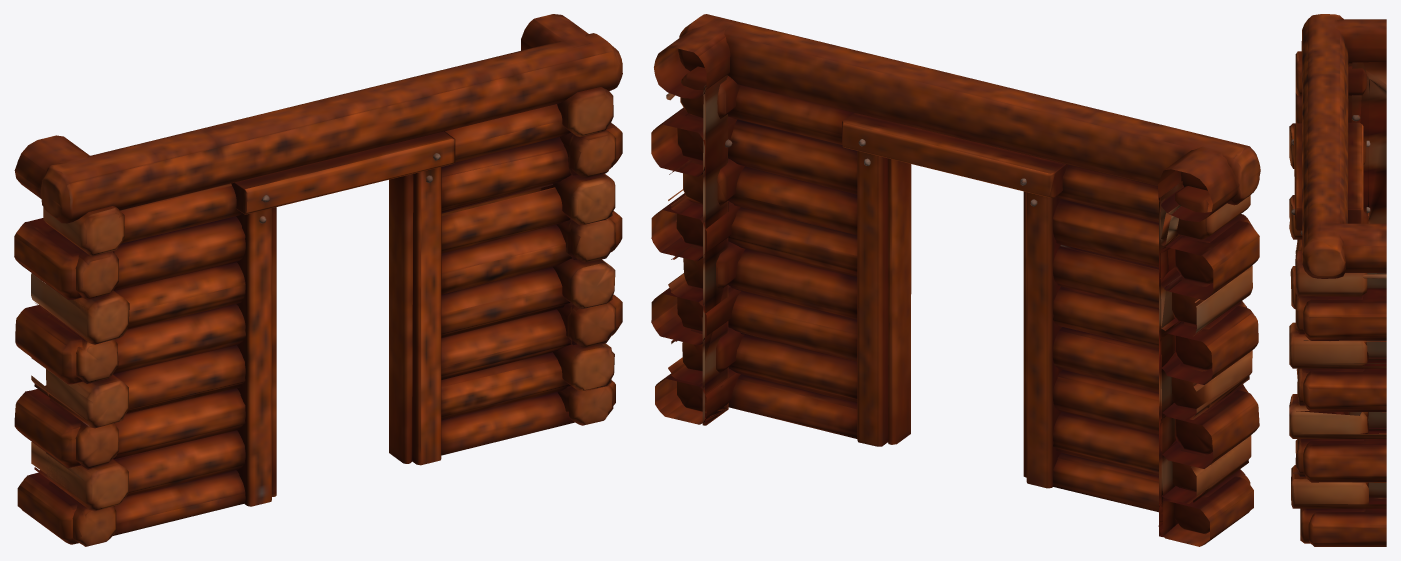
Rendered from HK_wall_door.glb.
3 renders of one model, left to right at view 1: azimuth 30°, elevation 25°; view 2: azimuth 150°, elevation 25°; view 3: azimuth 270°, elevation 25°, orthographic. The views are drawn at different scales.
Visible parts, largest first — view 1: geometry_0; view 2: geometry_0; view 3: geometry_0.
Part boxes in pixels (x1,y1,x2,y2): geometry_0: (14, 14, 622, 546); geometry_0: (651, 14, 1260, 546); geometry_0: (1289, 14, 1386, 546).
Size of the model in its own units: 0.9497 by 0.5996 by 0.17.
Materials: 1 (1 with a texture image).
